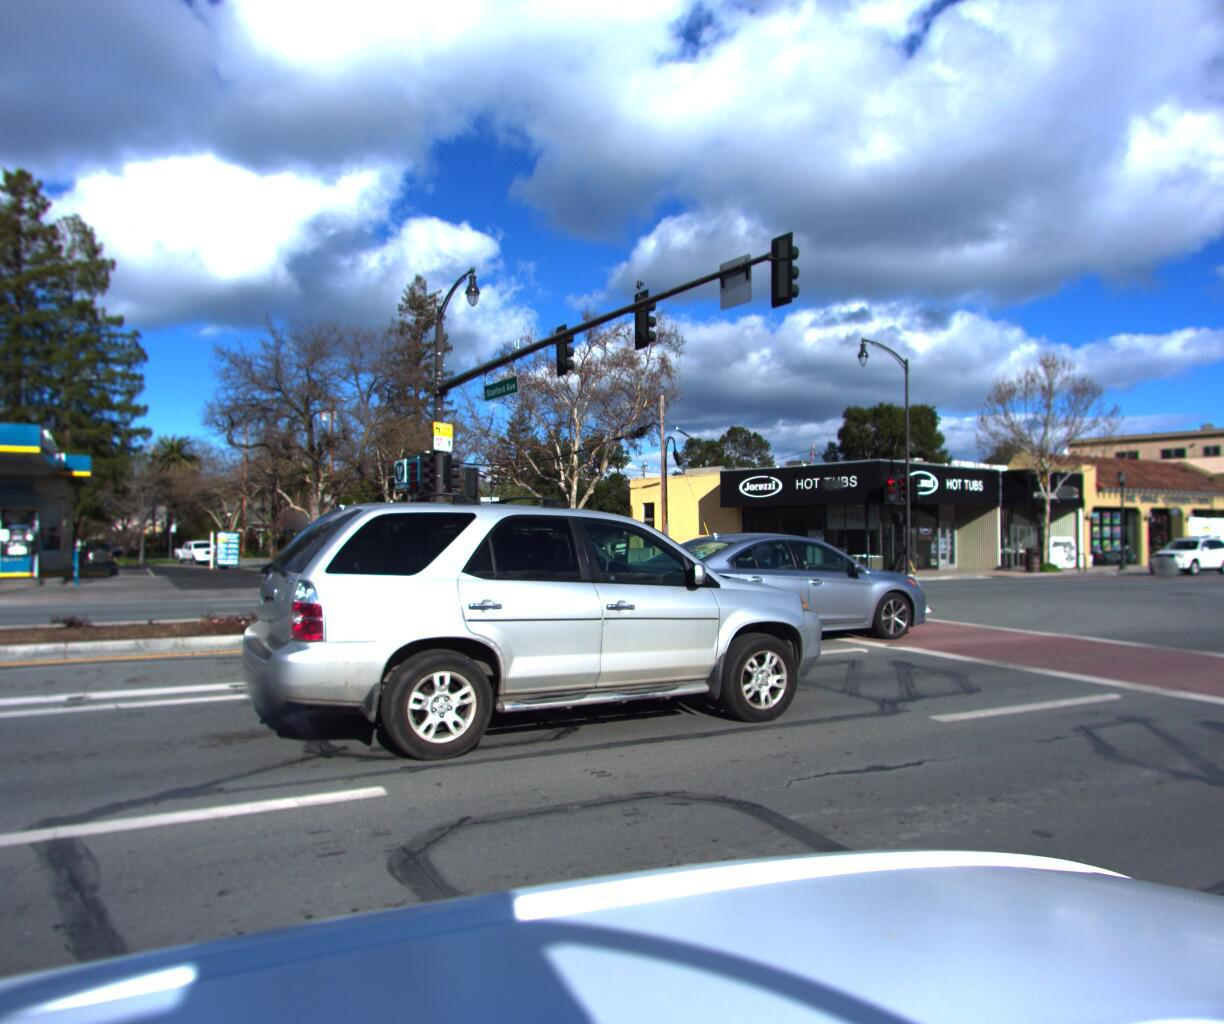bicycle: (276, 543, 300, 573)
car: (226, 463, 847, 787), (594, 524, 945, 651), (1140, 532, 1224, 573), (175, 543, 228, 566), (74, 543, 120, 569), (1207, 513, 1224, 566)
